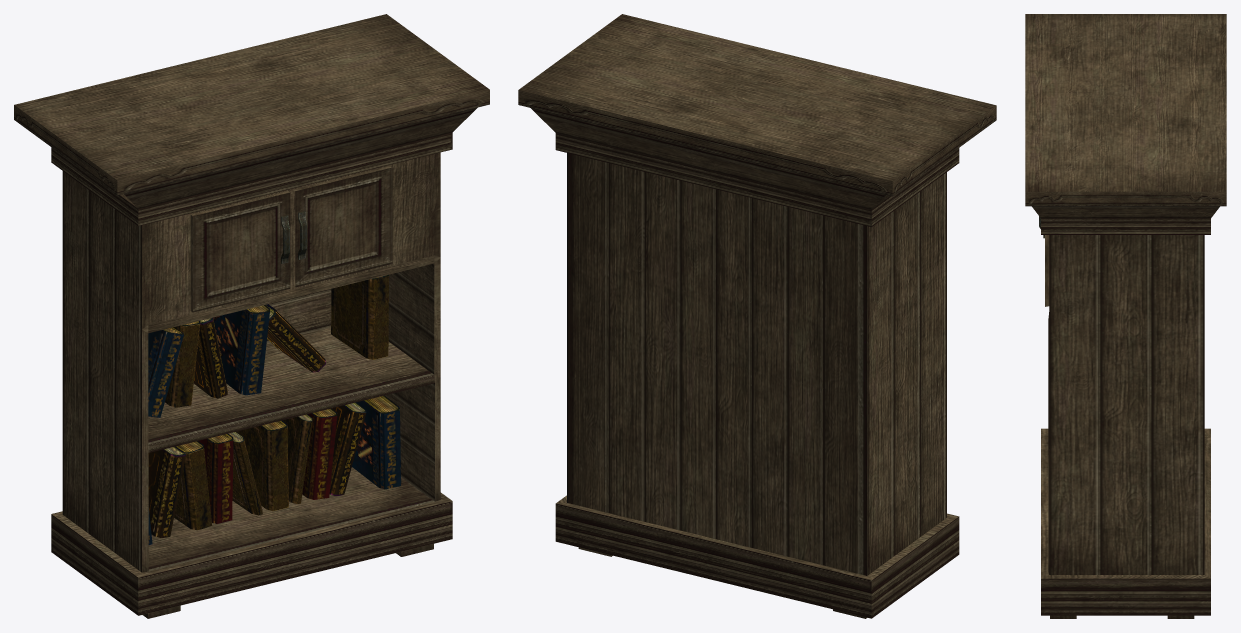
Rendered from GS_VOB_BOOKCASE_BROWN_02_KOZA.glb.
The picture shows the model from 3 angles, left to right: view 1: azimuth 30°, elevation 25°; view 2: azimuth 150°, elevation 25°; view 3: azimuth 270°, elevation 25°; orthographic projection. The views are drawn at different scales.
Visible parts, largest first — view 1: GS_VOB_BOOKCASE_BROWN_02_KOZA; view 2: GS_VOB_BOOKCASE_BROWN_02_KOZA; view 3: GS_VOB_BOOKCASE_BROWN_02_KOZA.
Part boxes in pixels (x1,y1,x2,y2): GS_VOB_BOOKCASE_BROWN_02_KOZA: (14,14,489,618); GS_VOB_BOOKCASE_BROWN_02_KOZA: (518,14,996,618); GS_VOB_BOOKCASE_BROWN_02_KOZA: (1025,14,1226,618).
Size of the model in its own units: 1.41 by 1.66 by 0.6778.
4 materials, 4 textured.
